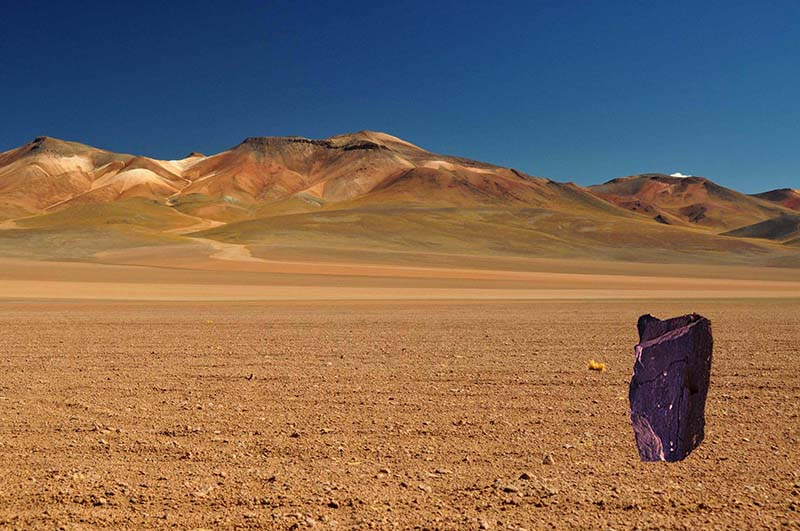Rocks: (623, 304, 717, 465)
